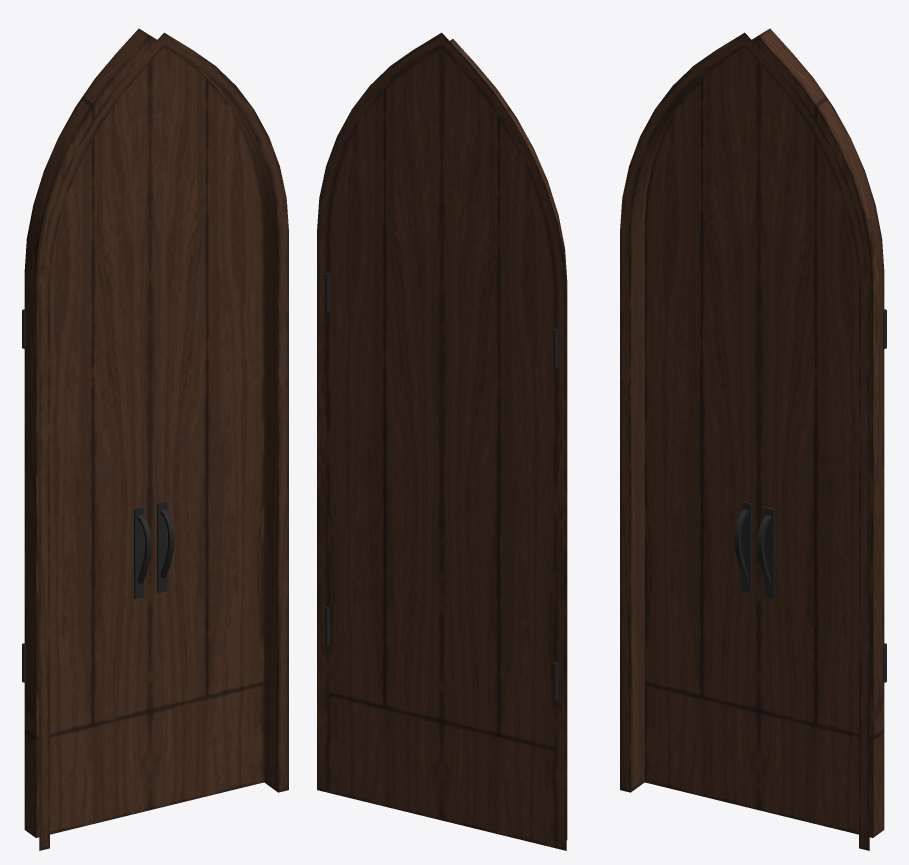
The model's file is Door_E_Frame.fbx.
3 renders of one model, left to right at view 1: azimuth 30°, elevation 25°; view 2: azimuth 150°, elevation 25°; view 3: azimuth 330°, elevation 25°, orthographic.
Parts seen in each view (by area): view 1: Door_E_B, Door_E_A, Door_E_Frame; view 2: Door_E_B, Door_E_A, Door_E_Frame; view 3: Door_E_A, Door_E_B, Door_E_Frame.
Part boxes in pixels (x1=…): Door_E_B: x1=22, y1=28, x2=151, y2=837; Door_E_A: x1=140, y1=29, x2=264, y2=810; Door_E_Frame: x1=39, y1=32, x2=288, y2=850; Door_E_B: x1=442, y1=39, x2=567, y2=848; Door_E_A: x1=325, y1=39, x2=451, y2=820; Door_E_Frame: x1=317, y1=32, x2=566, y2=850; Door_E_A: x1=757, y1=28, x2=886, y2=837; Door_E_B: x1=644, y1=29, x2=768, y2=810; Door_E_Frame: x1=620, y1=32, x2=869, y2=850.
Bounding box in the file's own units: 1.1 × 0.2035 × 3.32.
